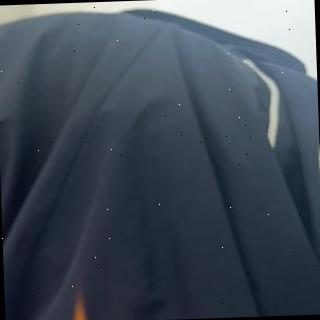fire: (65, 296, 91, 320)
